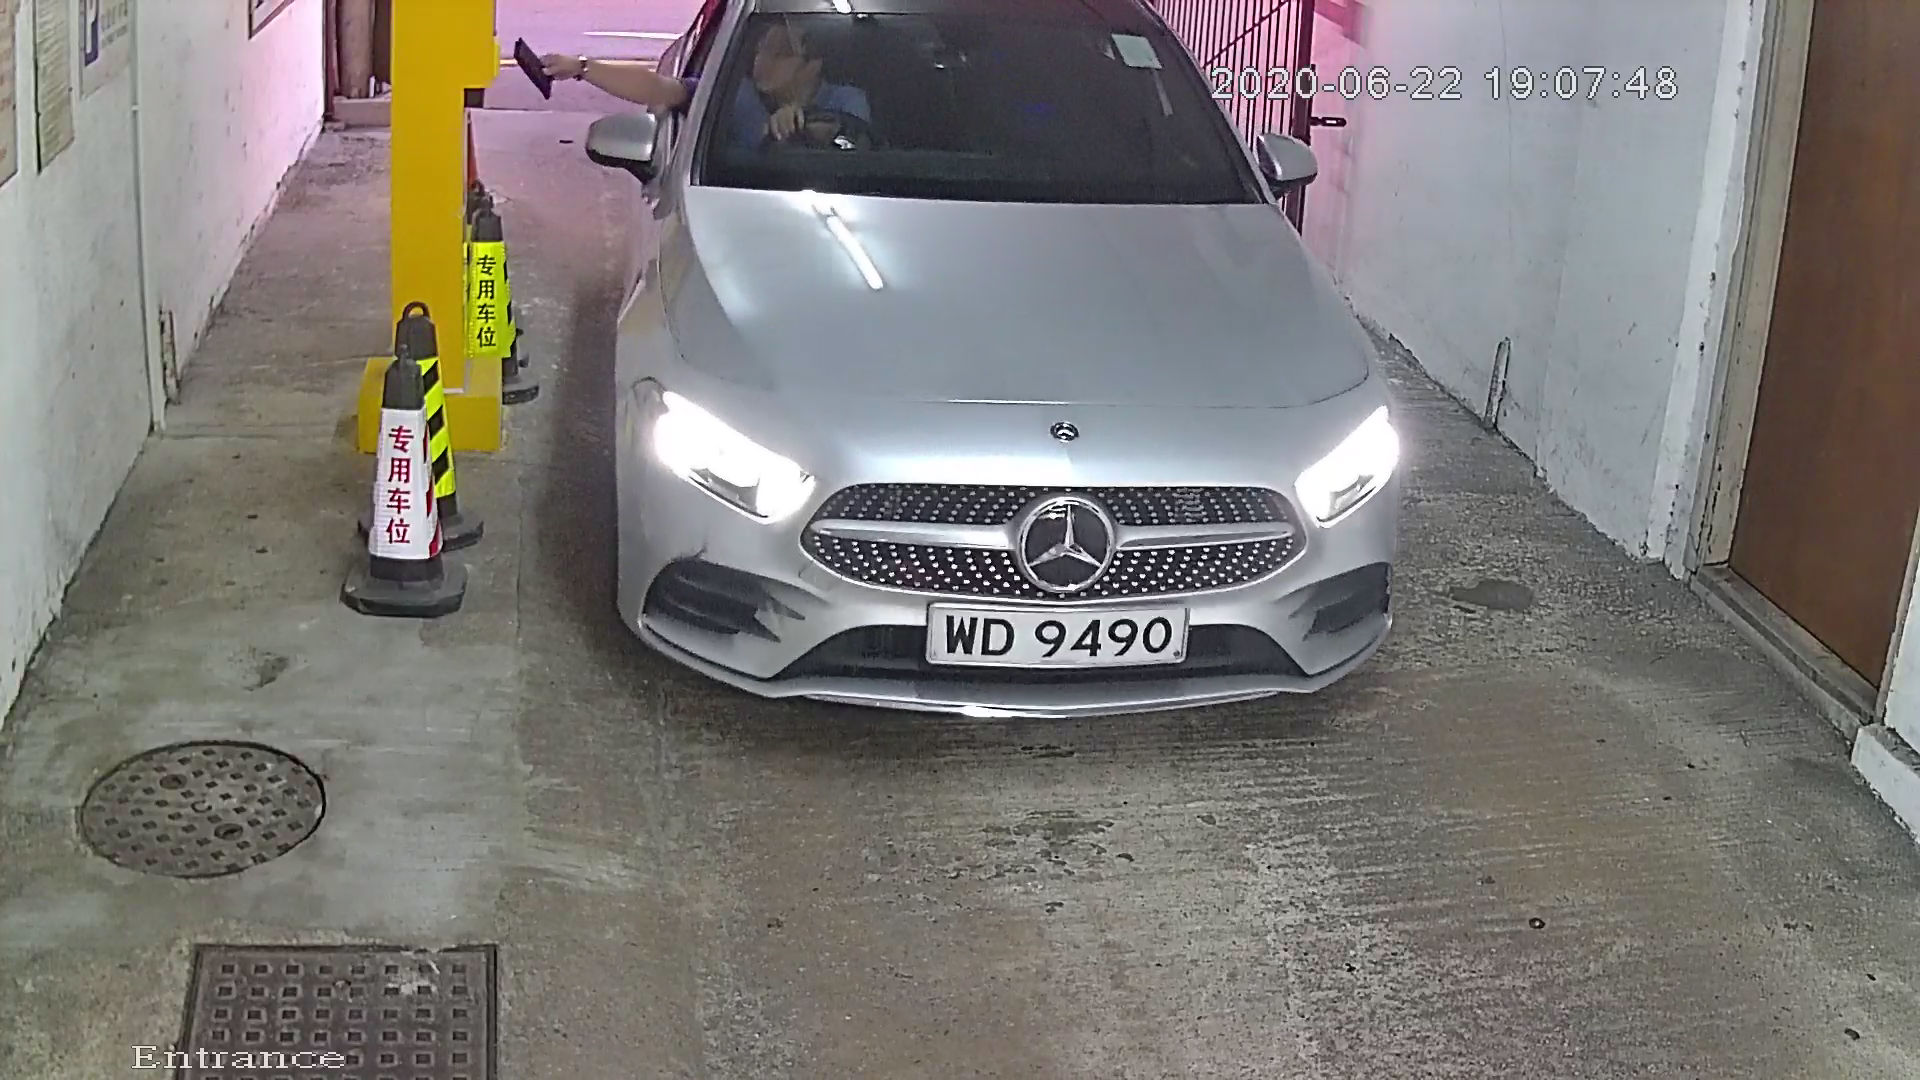privatecar: (543, 1, 1480, 773)
